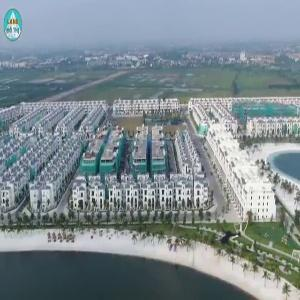drone: (195, 209, 260, 274)
